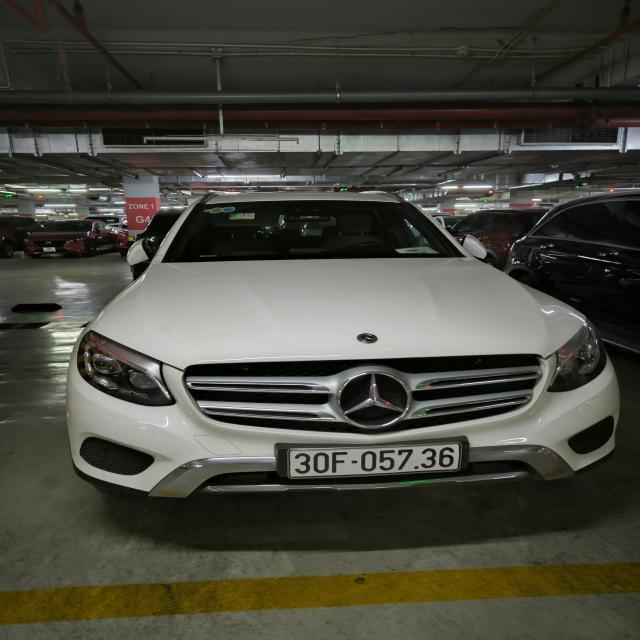license: (275, 438, 467, 479)
